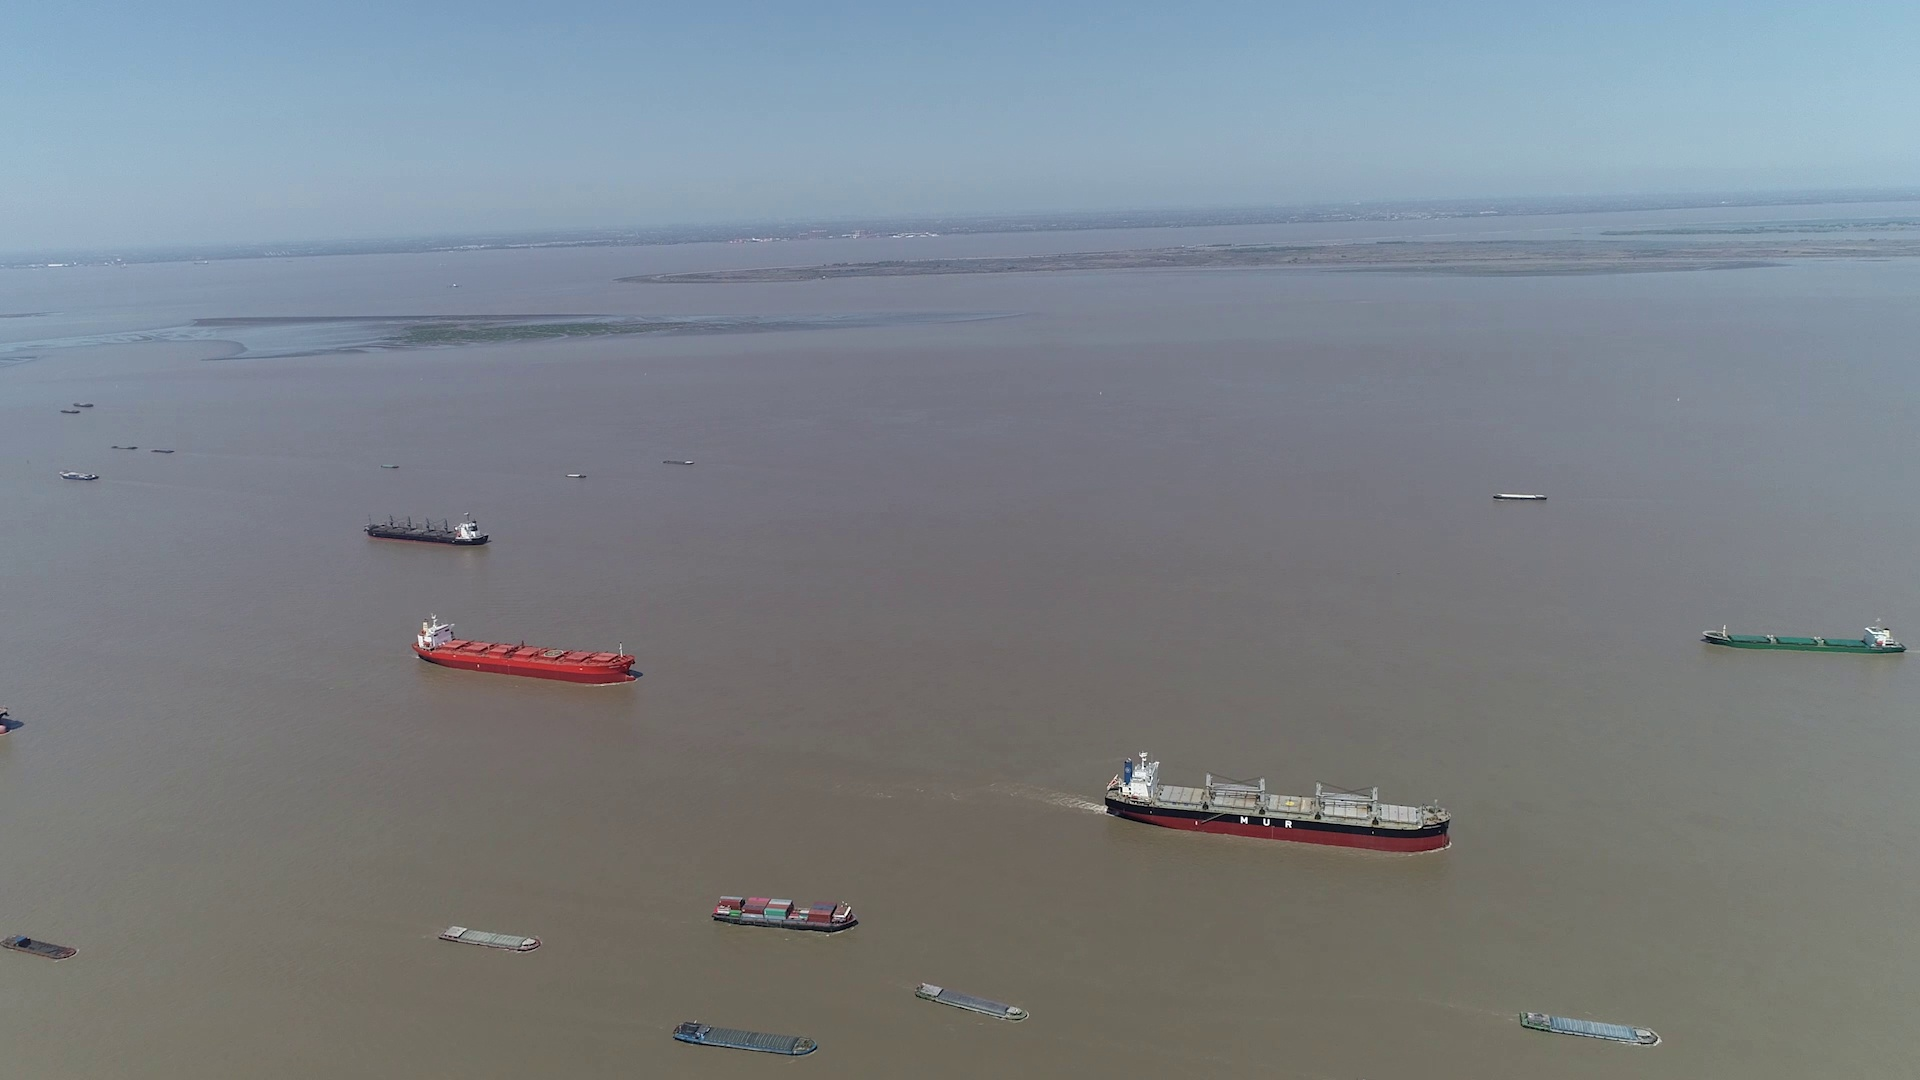ship: (1104, 754, 1451, 851), (411, 616, 636, 684), (1702, 624, 1909, 655), (709, 895, 861, 934), (671, 1022, 818, 1060), (1523, 1011, 1662, 1048), (916, 982, 1030, 1025), (364, 512, 491, 546), (438, 924, 541, 952), (4, 934, 73, 959), (61, 469, 100, 481), (1494, 493, 1548, 501), (665, 459, 696, 465), (564, 472, 582, 480)
